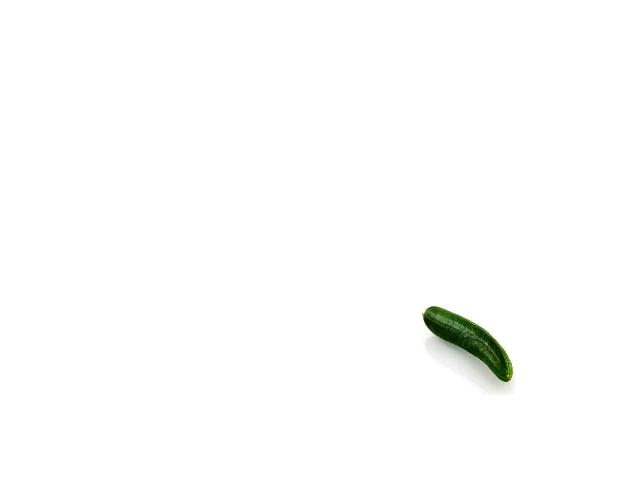cucumber: (423, 306, 512, 382)
